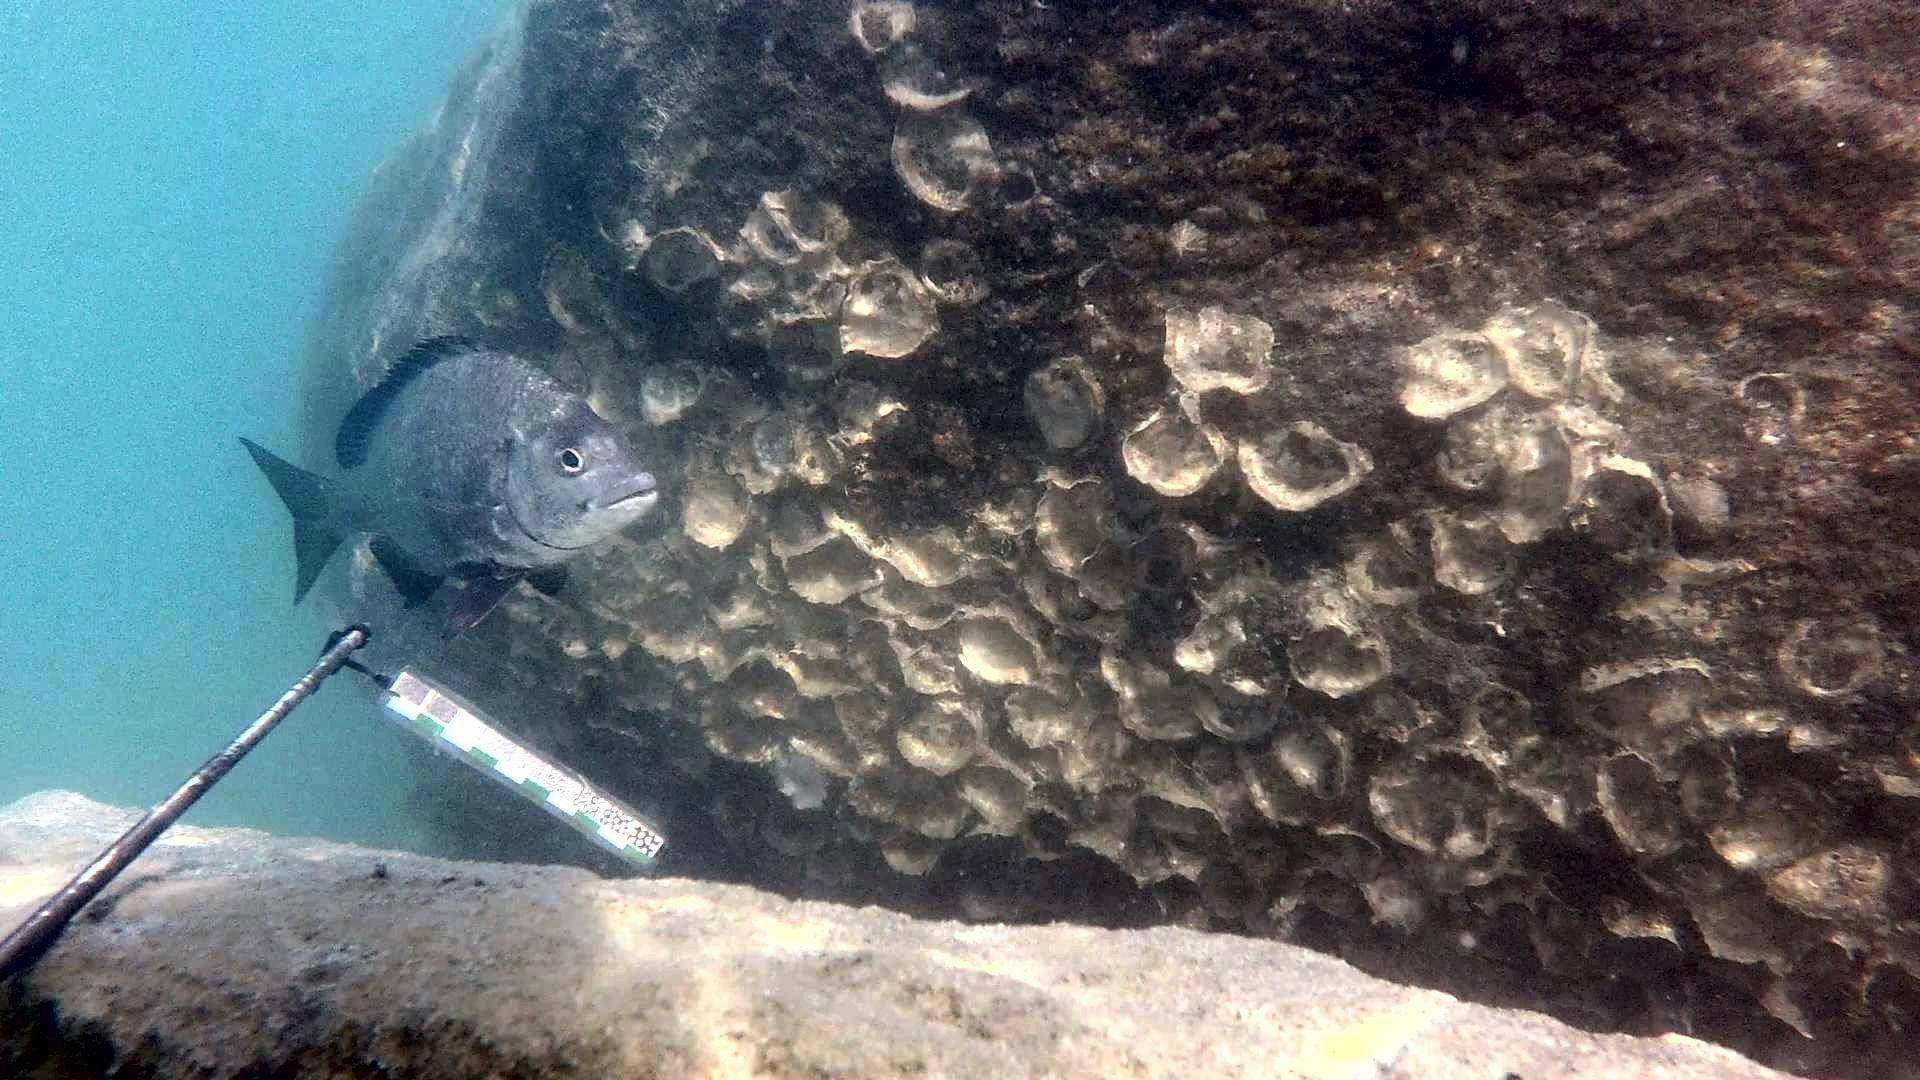acanthopagrus palmaris: (228, 328, 666, 642)
